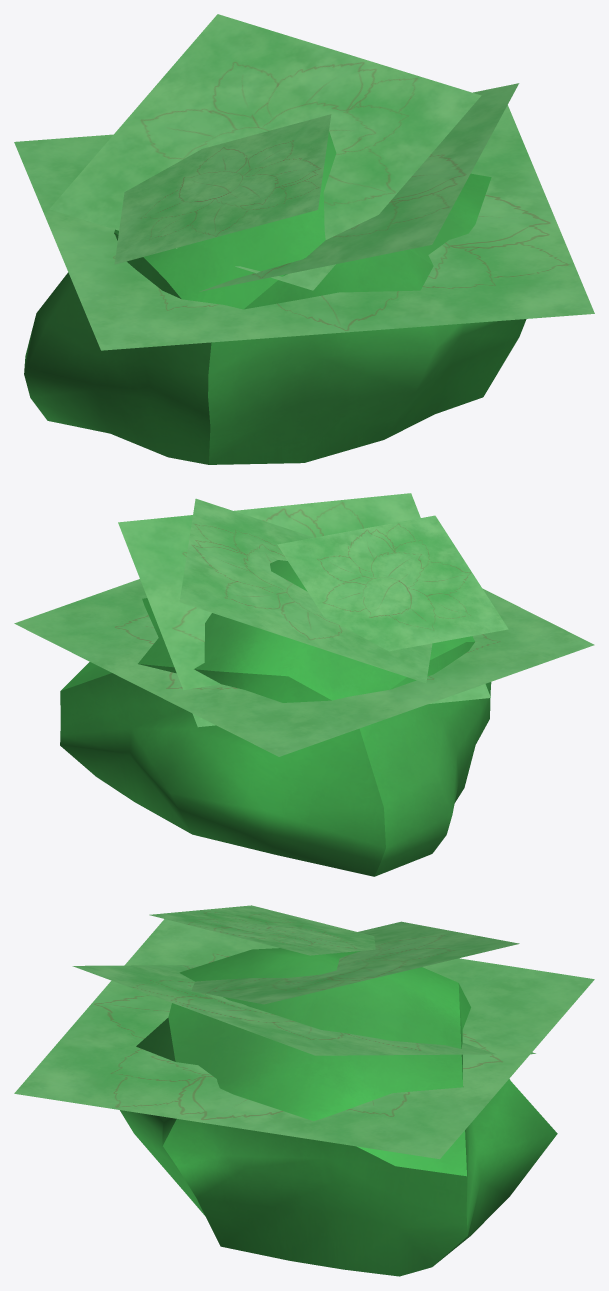
File: Bush.fbx
The picture shows the model from 3 angles, top to bottom: view 1: azimuth 30°, elevation 25°; view 2: azimuth 150°, elevation 25°; view 3: azimuth 270°, elevation 25°; orthographic projection. The views are drawn at different scales.
Visible parts, largest first — view 1: Box001, Plane018, Plane020, Plane021, Plane019; view 2: Box001, Plane018, Plane021, Plane020, Plane019; view 3: Box001, Plane018, Plane019, Plane020, Plane021.
Part boxes in pixels (x1,y1,x2,y2): Box001: (24,131,526,464); Plane018: (14,105,594,350); Plane020: (49,14,481,290); Plane021: (114,114,331,264); Plane019: (199,83,519,291); Box001: (60,560,491,876); Plane018: (14,579,594,756); Plane021: (277,515,508,651); Plane020: (179,498,432,682); Plane019: (118,493,490,727); Box001: (120,948,557,1276); Plane018: (14,919,594,1159); Plane019: (72,965,535,1055); Plane020: (191,921,519,1004); Plane021: (149,905,375,955).
Bounding box in the file's own units: 27.9 × 14.58 × 27.9.
2 materials, 2 textured.
